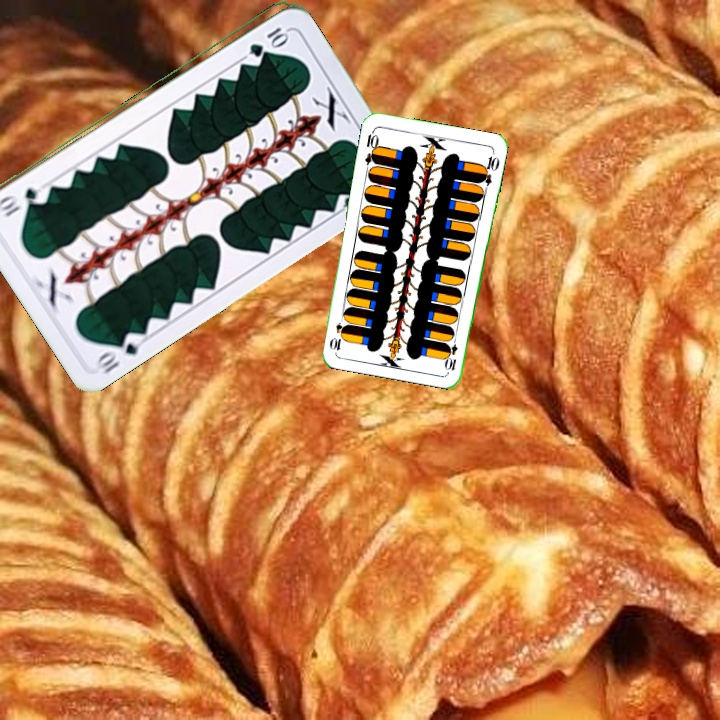E10: (361, 126, 381, 167), (443, 332, 460, 373)
G10: (93, 327, 147, 376), (245, 23, 290, 58)
